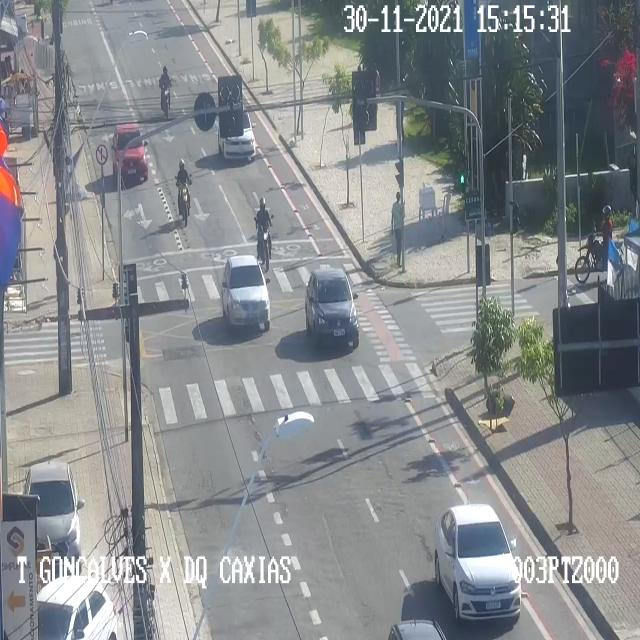Car: (434, 504, 520, 617), (24, 462, 80, 572), (36, 575, 116, 639), (305, 268, 359, 346), (222, 254, 270, 328), (217, 106, 255, 160), (111, 124, 147, 178)
Motorcycle: (574, 205, 622, 282), (255, 198, 273, 268), (175, 157, 192, 224), (159, 66, 171, 117)
